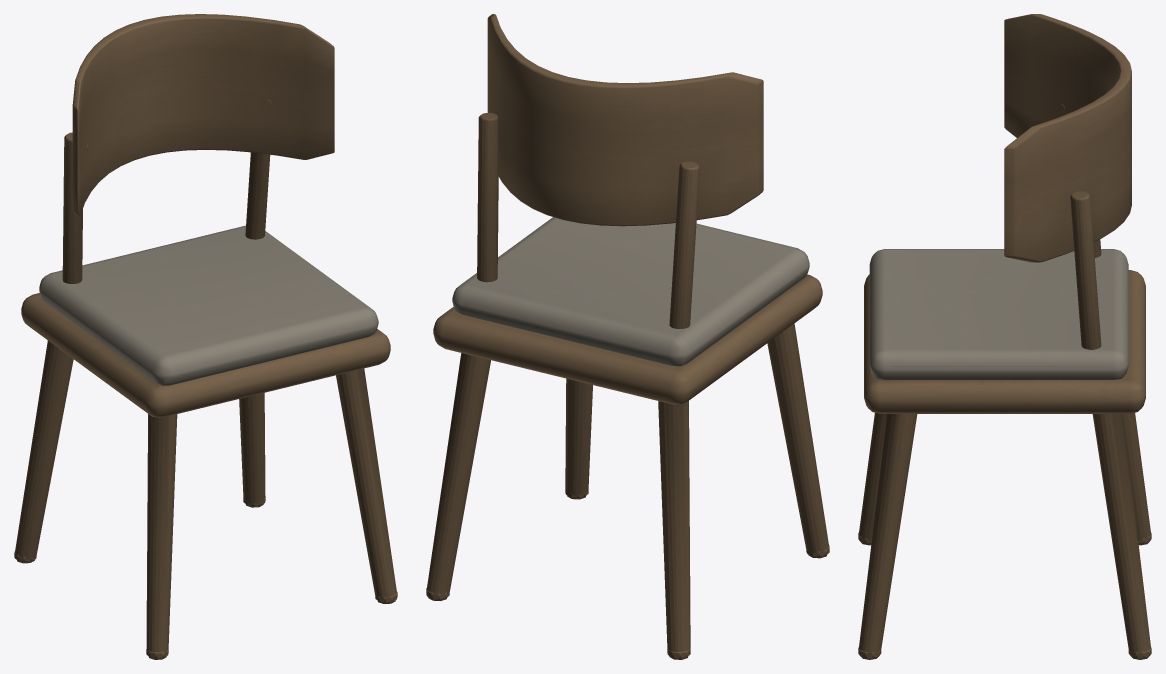
Rendered from studio_chair.glb.
3 renders of one model, left to right at view 1: azimuth 30°, elevation 25°; view 2: azimuth 150°, elevation 25°; view 3: azimuth 270°, elevation 25°, orthographic. The views are drawn at different scales.
Visible parts, largest first — view 1: Steam-bent walnut / radiused plywood edge, Fitted woven-linen cushion, Rounded solid-walnut seat rail, Tapered walnut leg / longitudinal grain, Tapered walnut leg / longitudinal grain.002, Tapered walnut leg / longitudinal grain.001, Tapered walnut leg / longitudinal grain.003, Back support / fitted tenon, Back support / fitted tenon.001; view 2: Steam-bent walnut / radiused plywood edge, Fitted woven-linen cushion, Rounded solid-walnut seat rail, Tapered walnut leg / longitudinal grain.001, Tapered walnut leg / longitudinal grain.003, Tapered walnut leg / longitudinal grain, Back support / fitted tenon.001, Back support / fitted tenon, Tapered walnut leg / longitudinal grain.002; view 3: Fitted woven-linen cushion, Steam-bent walnut / radiused plywood edge, Rounded solid-walnut seat rail, Tapered walnut leg / longitudinal grain.002, Tapered walnut leg / longitudinal grain.003, Back support / fitted tenon.001, Tapered walnut leg / longitudinal grain, Tapered walnut leg / longitudinal grain.001.
Part boxes in pixels (x1,y1,x2,y2): Steam-bent walnut / radiused plywood edge: [72, 14, 334, 215]; Fitted woven-linen cushion: [39, 225, 378, 385]; Rounded solid-walnut seat rail: [21, 293, 390, 417]; Tapered walnut leg / longitudinal grain: [146, 414, 177, 652]; Tapered walnut leg / longitudinal grain.002: [336, 368, 396, 597]; Tapered walnut leg / longitudinal grain.001: [15, 340, 73, 558]; Tapered walnut leg / longitudinal grain.003: [239, 393, 265, 503]; Back support / fitted tenon: [62, 132, 82, 283]; Back support / fitted tenon.001: [245, 152, 270, 239]; Steam-bent walnut / radiused plywood edge: [487, 14, 763, 226]; Fitted woven-linen cushion: [452, 217, 809, 366]; Rounded solid-walnut seat rail: [433, 274, 822, 404]; Tapered walnut leg / longitudinal grain.001: [658, 401, 690, 651]; Tapered walnut leg / longitudinal grain.003: [427, 353, 490, 594]; Tapered walnut leg / longitudinal grain: [767, 323, 828, 552]; Back support / fitted tenon.001: [477, 112, 498, 282]; Back support / fitted tenon: [669, 161, 699, 328]; Tapered walnut leg / longitudinal grain.002: [565, 378, 592, 494]; Fitted woven-linen cushion: [869, 249, 1128, 379]; Steam-bent walnut / radiused plywood edge: [1004, 14, 1131, 262]; Rounded solid-walnut seat rail: [864, 270, 1145, 413]; Tapered walnut leg / longitudinal grain.002: [859, 414, 917, 652]; Tapered walnut leg / longitudinal grain.003: [1092, 414, 1150, 652]; Back support / fitted tenon.001: [1070, 191, 1101, 349]; Tapered walnut leg / longitudinal grain: [859, 413, 886, 540]; Tapered walnut leg / longitudinal grain.001: [1123, 413, 1150, 540].
Bounding box in the file's own units: 0.465 × 0.89 × 0.4479.
Materials: 2 (2 with a texture image).
